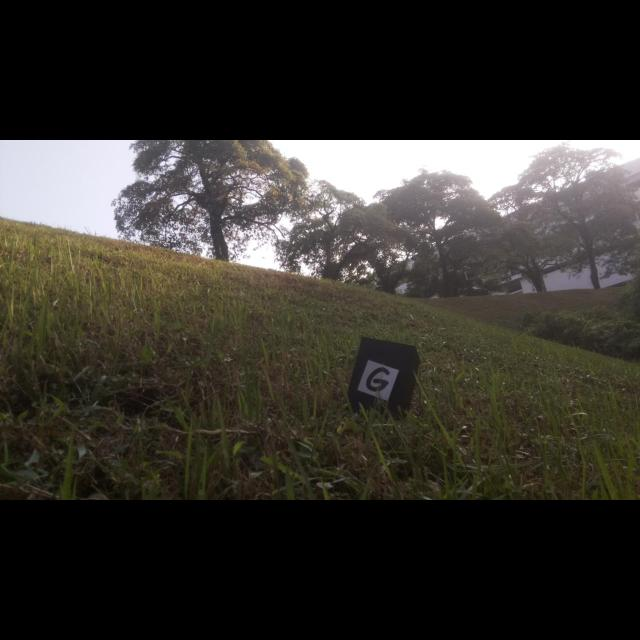G: (366, 367, 390, 392)
